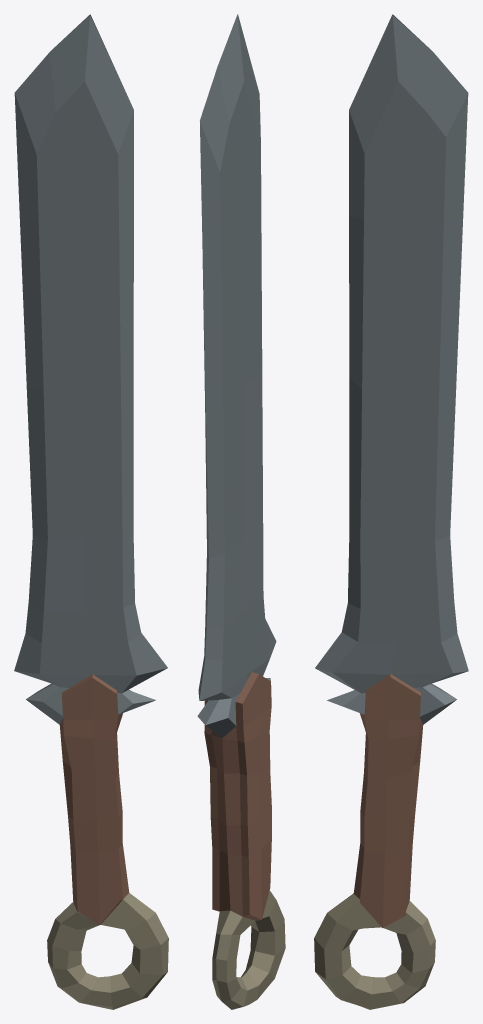
File: Espada.fbx
3 views of the same model, side by side, from view 1: azimuth 90°, elevation 25°; view 2: azimuth 150°, elevation 25°; view 3: azimuth 270°, elevation 25° (orthographic).
Parts seen in each view (by area): view 1: Espada001; view 2: Espada001; view 3: Espada001.
Boxes of the visible parts, box(x1,y1,x2,y2) form: Espada001: box(14, 14, 168, 1009); Espada001: box(197, 14, 285, 1009); Espada001: box(314, 14, 468, 1009).
Bounding box in the file's own units: 24.57 × 583 × 82.17.
1 material, 1 textured.
